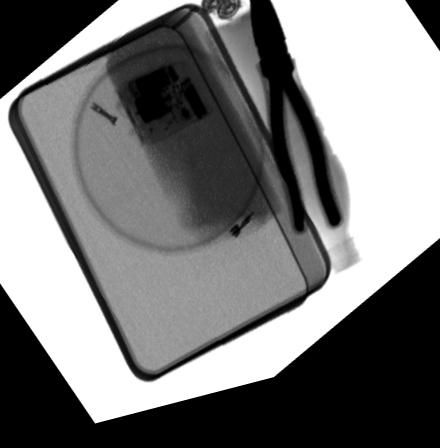Pliers: (246, 0, 344, 255)
